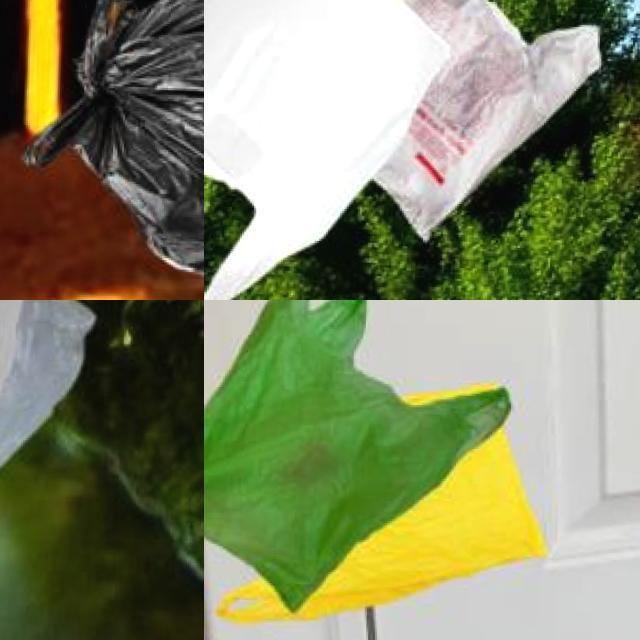waste: (204, 300, 512, 608), (214, 378, 554, 632), (204, 0, 452, 300), (351, 0, 616, 244), (60, 0, 204, 300), (0, 300, 98, 593)
